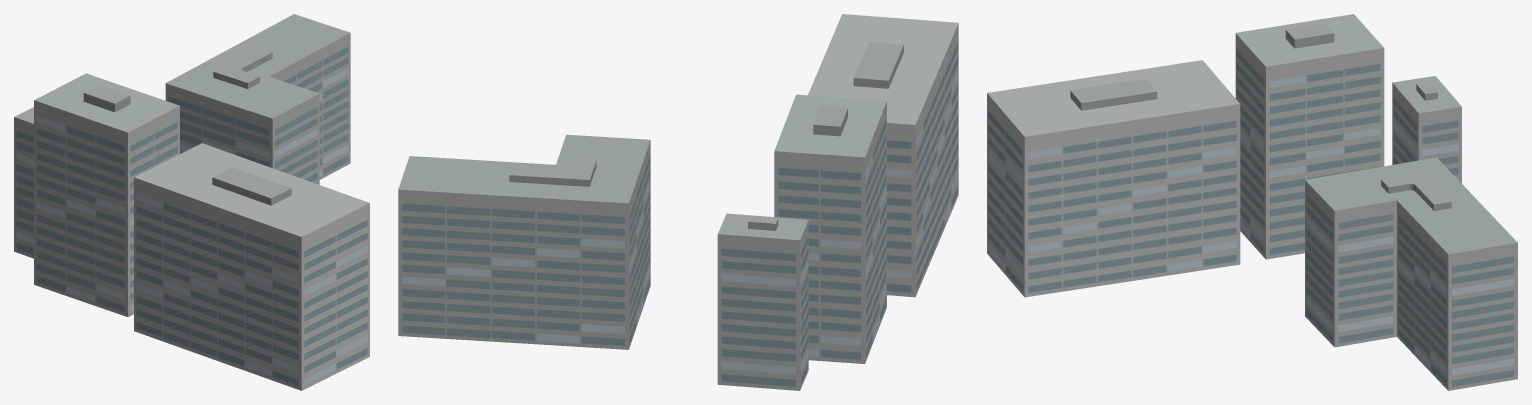
The model's file is apt-a13508005.glb.
The picture shows the model from 3 angles, left to right: view 1: azimuth 30°, elevation 25°; view 2: azimuth 150°, elevation 25°; view 3: azimuth 270°, elevation 25°; orthographic projection. The views are drawn at different scales.
Visible parts, largest first — view 1: apt-a13508005; view 2: apt-a13508005; view 3: apt-a13508005.
Part boxes in pixels (x1,y1,x2,y2): apt-a13508005: (14,14,369,390); apt-a13508005: (398,14,958,390); apt-a13508005: (987,14,1517,390).
Bounding box in the file's own units: 93.96 × 48 × 114.
